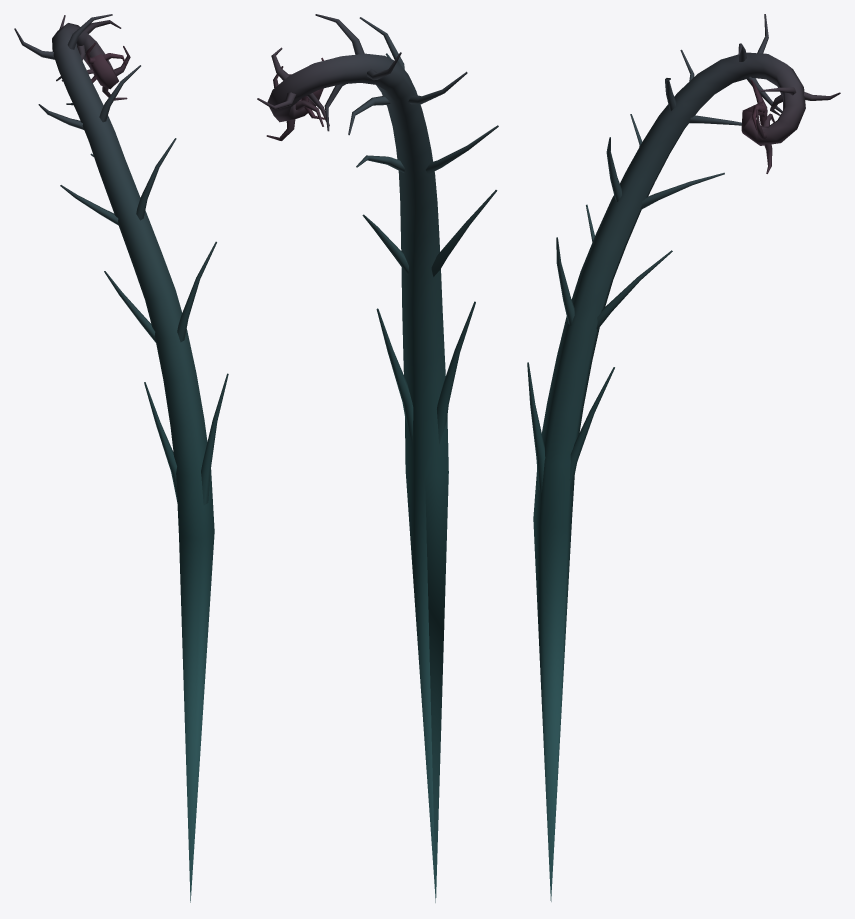
The model's file is plants-bushes-twigs-thorny-tendril_v1.fbx.
3 renders of one model, left to right at view 1: azimuth 30°, elevation 25°; view 2: azimuth 150°, elevation 25°; view 3: azimuth 270°, elevation 25°, orthographic. The views are drawn at different scales.
Parts seen in each view (by area): view 1: Thorny Tendril_v1; view 2: Thorny Tendril_v1; view 3: Thorny Tendril_v1.
Boxes of the visible parts, x1=… form: Thorny Tendril_v1: x1=14, y1=14, x2=228, y2=902; Thorny Tendril_v1: x1=257, y1=14, x2=498, y2=902; Thorny Tendril_v1: x1=527, y1=14, x2=840, y2=901.
Size of the model in its own units: 0.0841 by 0.5 by 0.1657.
